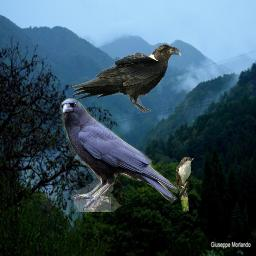Crow: (58, 98, 178, 212), (68, 43, 182, 114)
Cuckoo: (176, 155, 194, 211)
